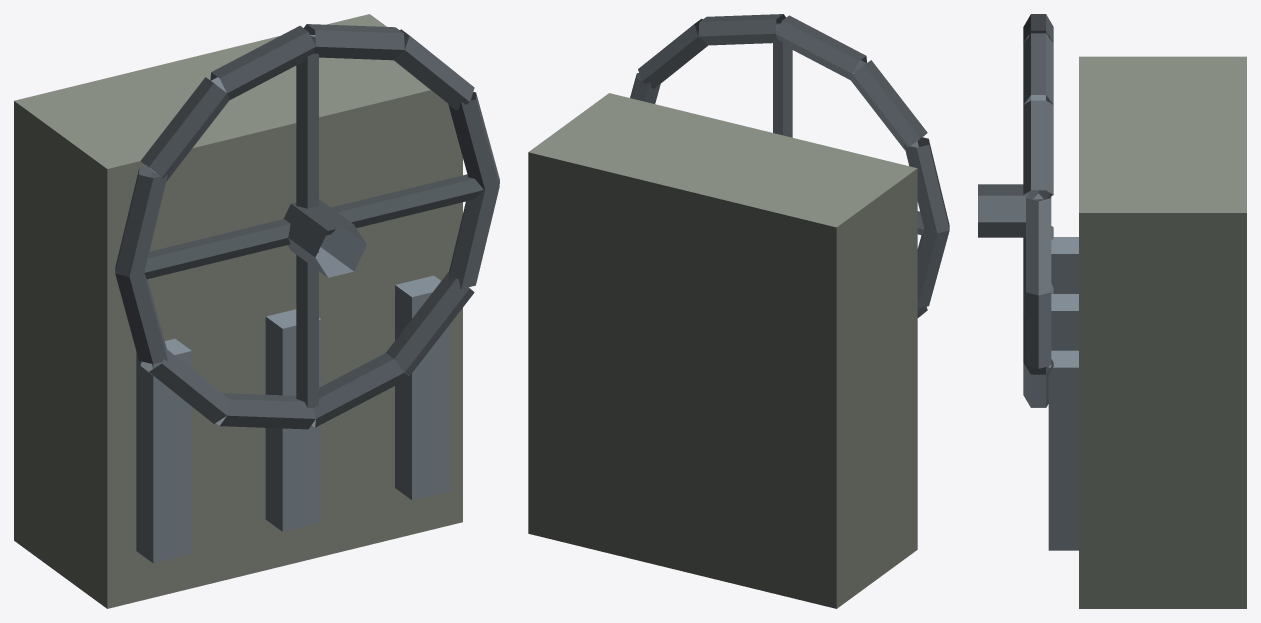
The picture shows the model from 3 angles, left to right: view 1: azimuth 30°, elevation 25°; view 2: azimuth 150°, elevation 25°; view 3: azimuth 270°, elevation 25°; orthographic projection. The views are drawn at different scales.
Visible parts, largest first — view 1: 9684c94f4d2bcb7d5542e18d8e1cac95c3bf85e273d846a05af733e7c305; view 2: 9684c94f4d2bcb7d5542e18d8e1cac95c3bf85e273d846a05af733e7c305; view 3: 9684c94f4d2bcb7d5542e18d8e1cac95c3bf85e273d846a05af733e7c305.
Boxes of the visible parts, x1,y1,x2,y2 form: 9684c94f4d2bcb7d5542e18d8e1cac95c3bf85e273d846a05af733e7c305: (14, 14, 499, 608); 9684c94f4d2bcb7d5542e18d8e1cac95c3bf85e273d846a05af733e7c305: (528, 14, 949, 608); 9684c94f4d2bcb7d5542e18d8e1cac95c3bf85e273d846a05af733e7c305: (978, 14, 1246, 608).
Bounding box in the file's own units: 1.19 × 1.64 × 0.8.
Materials: 1 (1 with a texture image).
